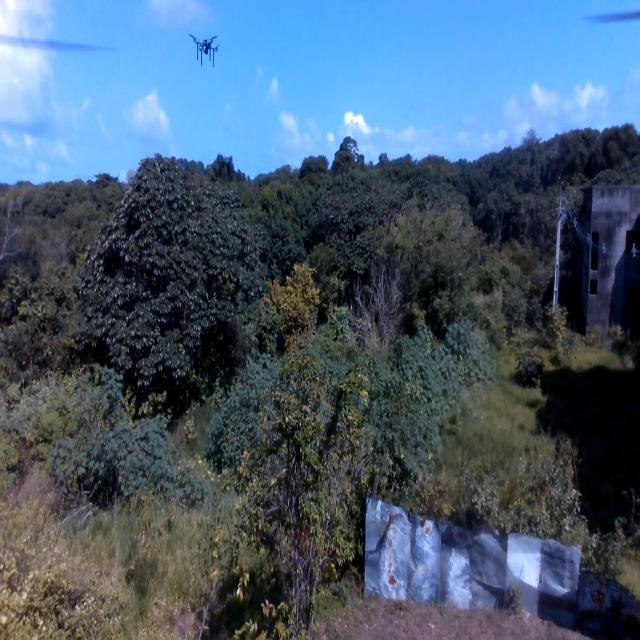-uav-: (182, 23, 240, 78)
